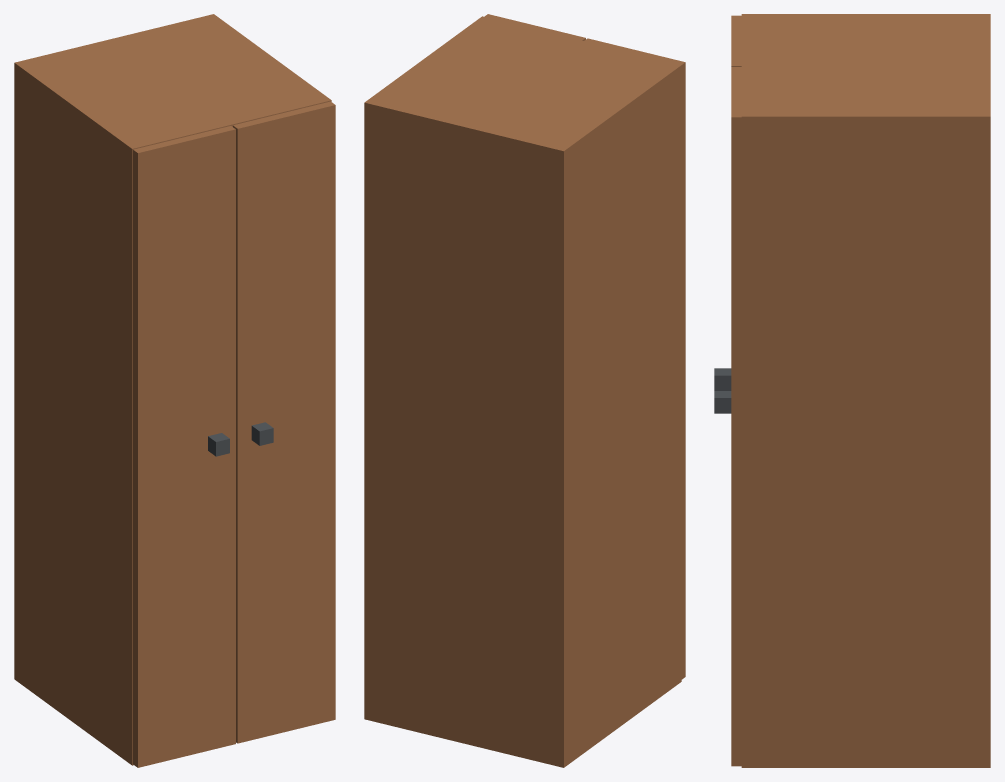
The picture shows the model from 3 angles, left to right: view 1: azimuth 30°, elevation 25°; view 2: azimuth 150°, elevation 25°; view 3: azimuth 270°, elevation 25°; orthographic projection. The views are drawn at different scales.
Visible parts, largest first — view 1: side_left, panel_left, panel_right, top, side_right; view 2: back, side_left, top, side_right, panel_left, bottom; view 3: side_right, top, panel_right, side_left, panel_left.
Boxes of the visible parts, box(x1,y1,x2,y2) form: side_left: box(14, 60, 140, 765); panel_left: box(133, 126, 235, 767); panel_right: box(233, 101, 335, 743); top: box(23, 16, 323, 147); side_right: box(206, 14, 331, 103); back: box(372, 113, 555, 756); side_left: box(555, 63, 681, 767); top: box(372, 18, 672, 157); side_right: box(364, 16, 489, 721); panel_left: box(584, 38, 685, 679); bottom: box(372, 712, 555, 765); side_right: box(741, 112, 990, 767); top: box(741, 18, 990, 112); panel_right: box(731, 67, 741, 766); side_left: box(741, 14, 990, 18); panel_left: box(731, 15, 741, 66).
Size of the model in its own units: 0.43 by 1.27 by 0.488.
